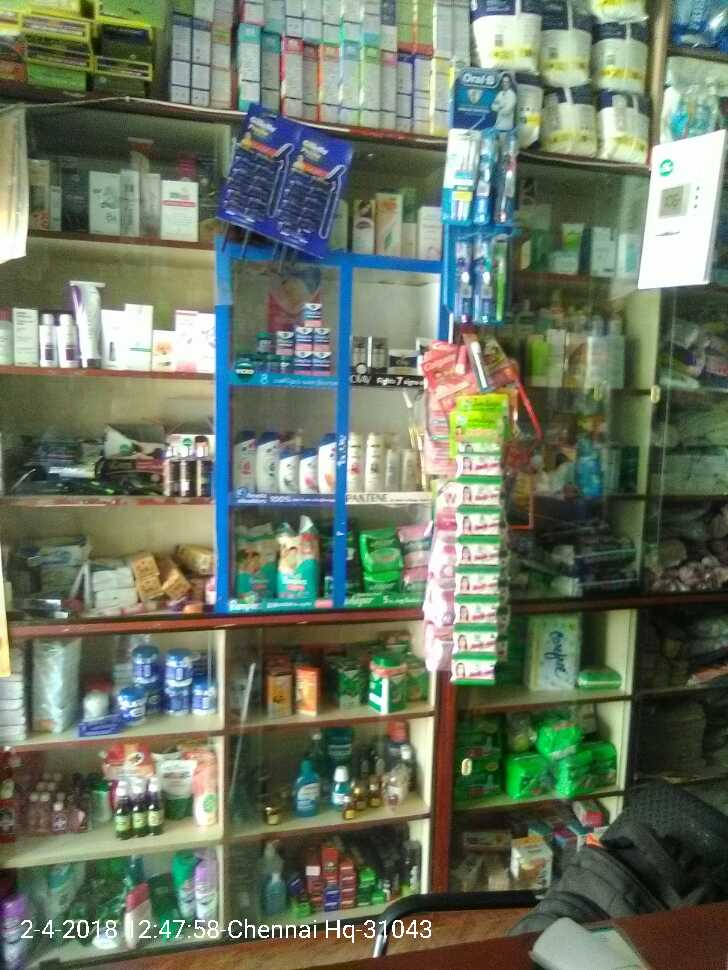vicks: (298, 303, 322, 327), (312, 351, 331, 378), (293, 353, 312, 378), (314, 327, 331, 350), (256, 332, 275, 352), (298, 327, 314, 350), (277, 331, 293, 351), (268, 354, 280, 373), (280, 355, 292, 372)
